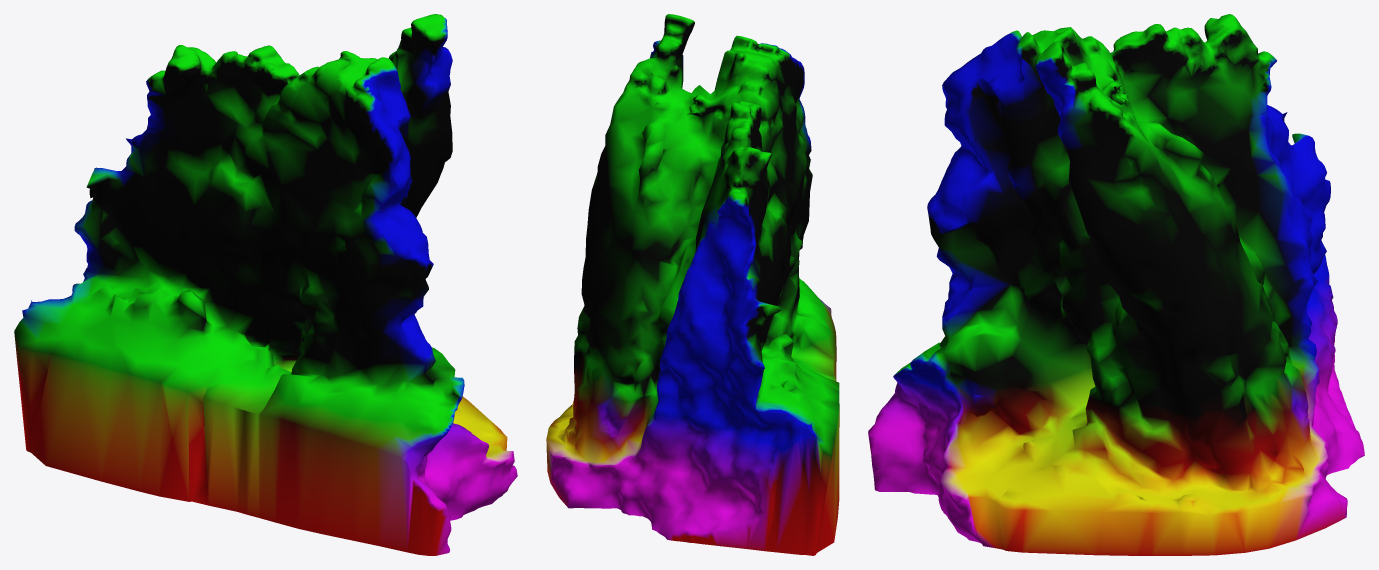
File: nordic-tall-a.glb
3 views of the same model, side by side, from view 1: azimuth 30°, elevation 25°; view 2: azimuth 150°, elevation 25°; view 3: azimuth 270°, elevation 25° (orthographic). The views are drawn at different scales.
Parts seen in each view (by area): view 1: nordic-tall-a_lod0; view 2: nordic-tall-a_lod0; view 3: nordic-tall-a_lod0.
Boxes of the visible parts, <box> form: nordic-tall-a_lod0: <box>14,14,517,555</box>; nordic-tall-a_lod0: <box>546,14,839,555</box>; nordic-tall-a_lod0: <box>868,14,1364,555</box>.
Size of what is drawn, in the model's own units: 19.59 by 24.09 by 22.73.
